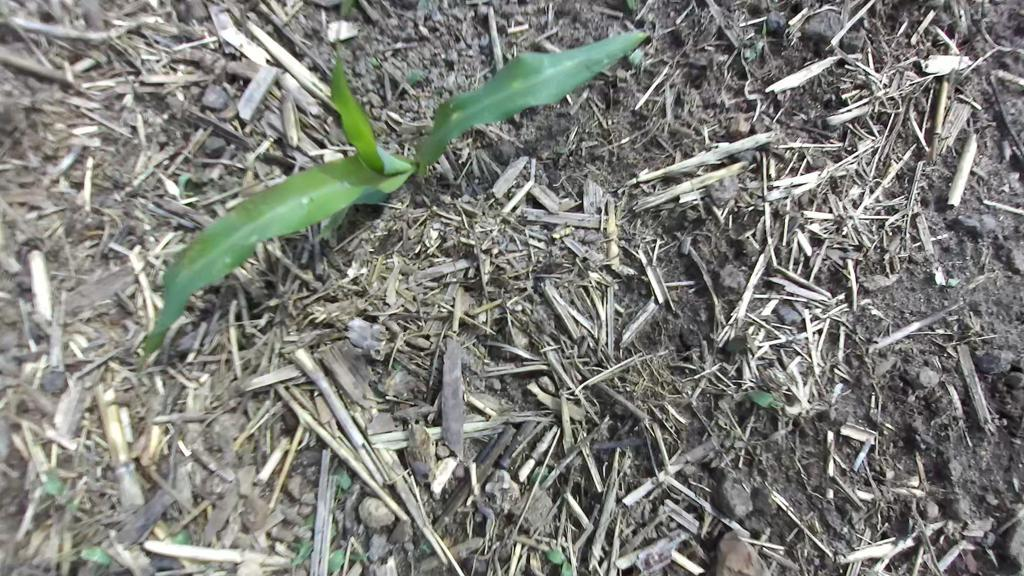BroWeed: (320, 539, 365, 576), (39, 463, 79, 501), (147, 165, 187, 202), (743, 384, 786, 415), (329, 463, 364, 500), (541, 543, 578, 576), (78, 540, 114, 568), (622, 40, 653, 70), (402, 60, 432, 90), (740, 37, 771, 66), (149, 516, 178, 546), (716, 386, 749, 412), (291, 539, 313, 576), (296, 509, 323, 538), (526, 461, 551, 491), (54, 475, 77, 507), (174, 172, 196, 200), (135, 158, 158, 184), (750, 19, 772, 45), (65, 489, 86, 515), (929, 260, 946, 289), (290, 524, 314, 542), (78, 562, 107, 576), (417, 537, 435, 557), (170, 529, 191, 545), (390, 358, 409, 375), (365, 52, 381, 69), (328, 520, 339, 543), (337, 487, 348, 504), (944, 277, 961, 288)
